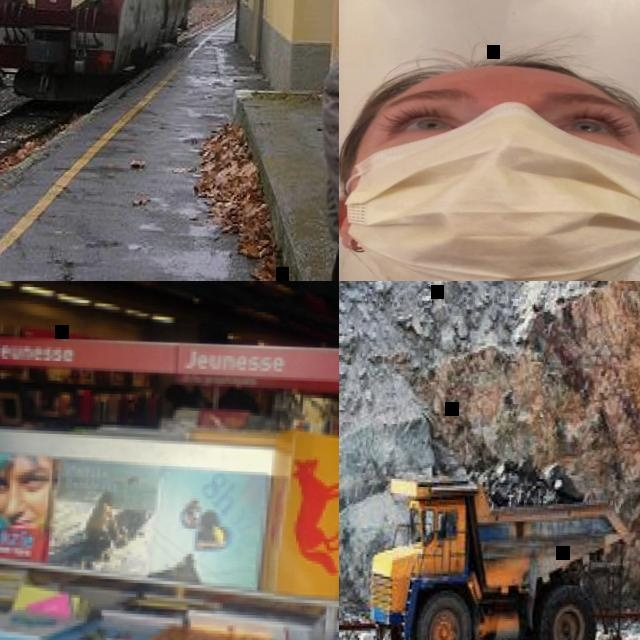Mask: (339, 99, 640, 281)
NO-Hardhat: (361, 55, 640, 101)
Person: (339, 47, 640, 281)
machinery: (362, 456, 639, 640)
